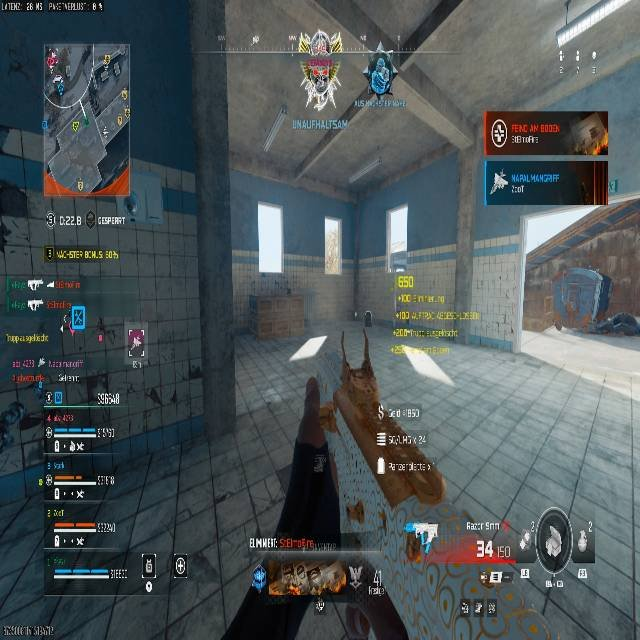player: (301, 52, 340, 112)
